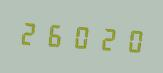six: (43, 17, 67, 51)
two: (18, 15, 42, 50), (93, 20, 117, 55)
zero: (118, 22, 142, 57), (68, 19, 92, 53)
